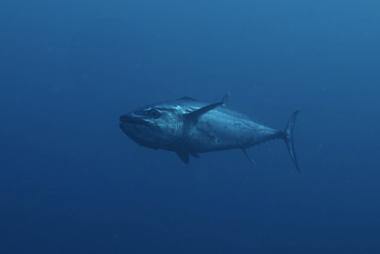Scombridae -Tunas-: (113, 89, 309, 178)
